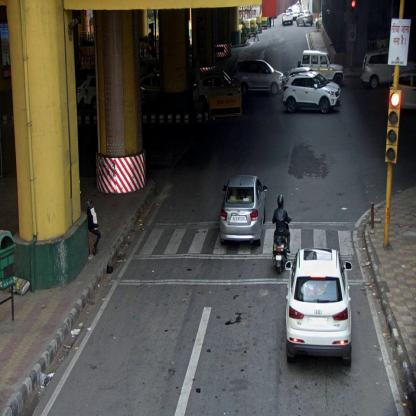car: (285, 248, 351, 369), (219, 174, 265, 246), (282, 73, 342, 115), (361, 50, 416, 87), (235, 58, 286, 96), (298, 47, 344, 84), (295, 11, 314, 28), (281, 9, 293, 26)
motorcycle: (272, 193, 290, 275)
